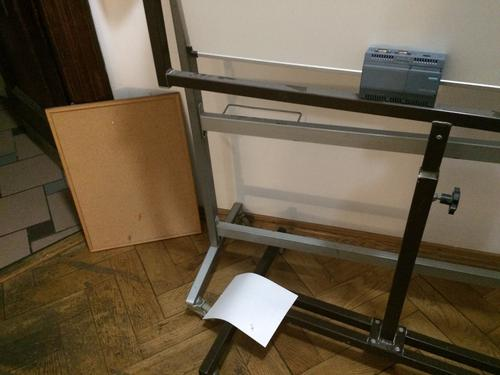iot2000: (359, 46, 448, 109)
